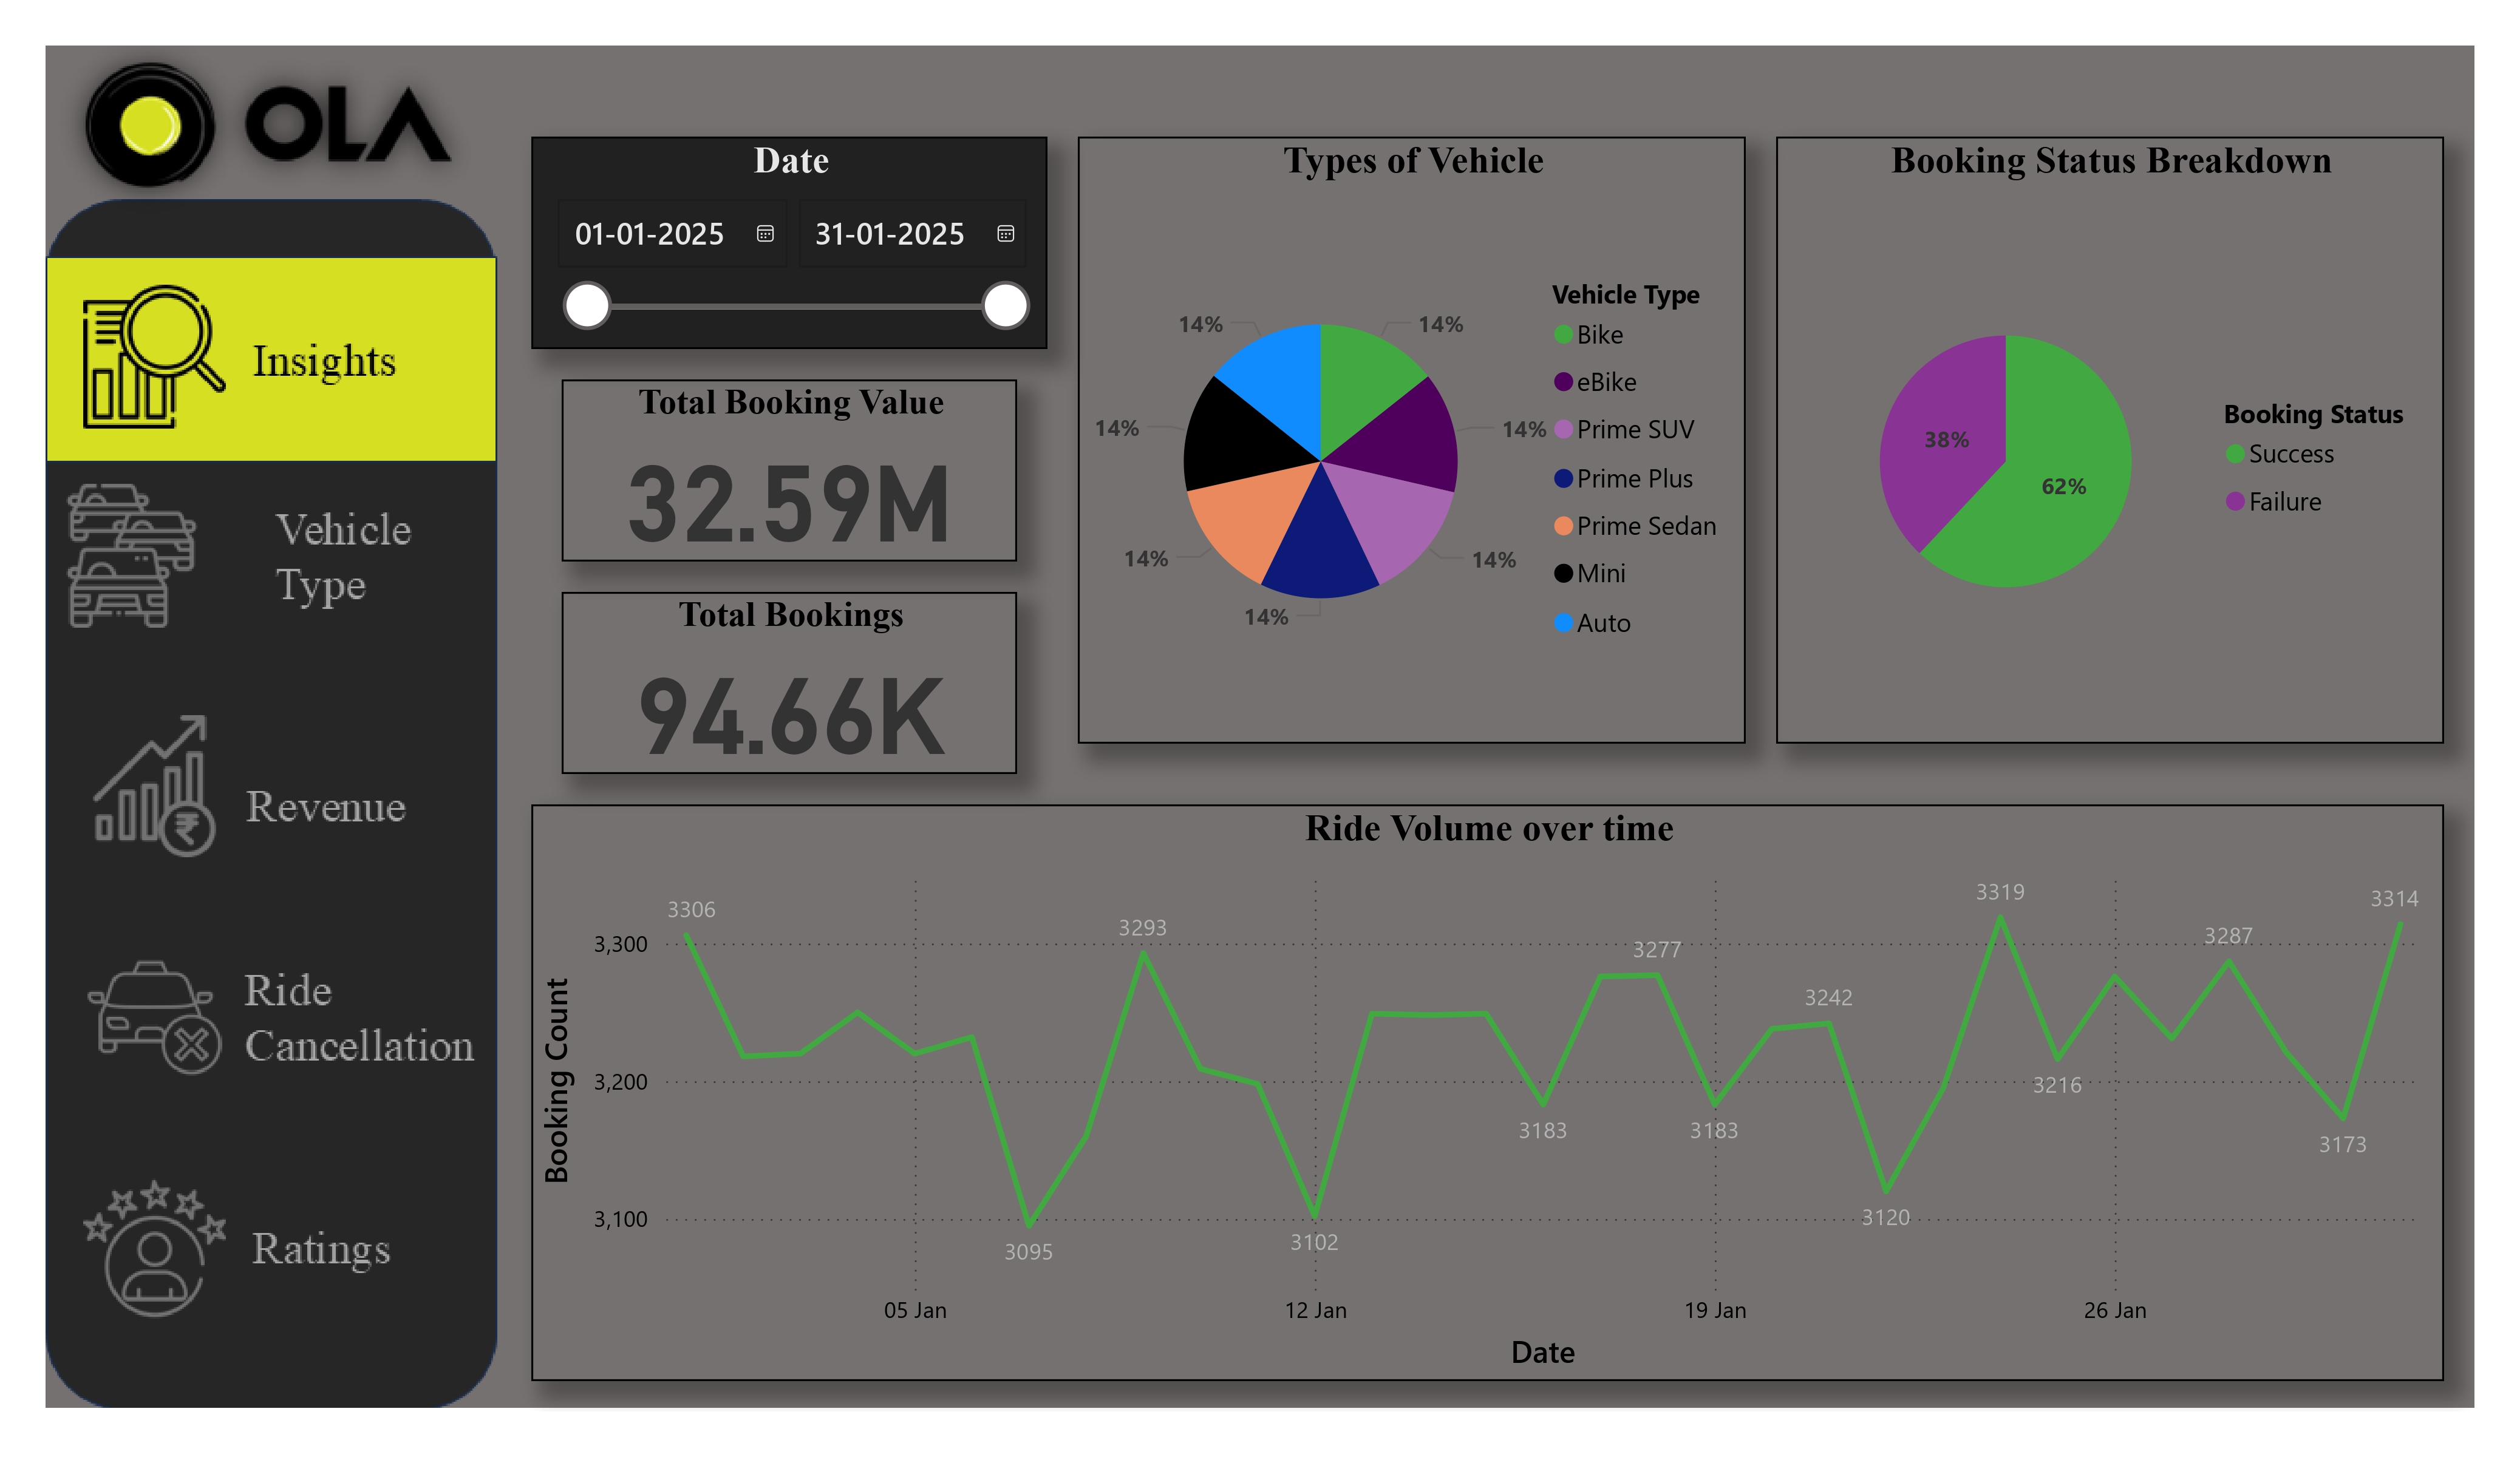

The page's visual inventory and layout, read from the dashboard file:
{"tool":"powerbi","page":{"name":"Insights","canvas":[1280,720],"ordinal":0},"visuals":[{"type":"actionButton","box":[0,224,240,96],"z":0},{"type":"actionButton","box":[0,336,240,112],"z":1000},{"type":"actionButton","box":[0,464,240,96],"z":2000},{"type":"actionButton","box":[0,592,240,96],"z":3000},{"type":"lineChart","title":"Ride Volume over time","fields":{"Category":["Ola_banglore_ride.Date"],"Y":["CountNonNull(Ola_banglore_ride.Booking_ID)"]},"box":[256,400,1008,304],"z":4000},{"type":"pieChart","title":"Booking Status Breakdown","fields":{"Category":["Ola_banglore_ride.Booking_Status"],"Y":["CountNonNull(Ola_banglore_ride.Booking_Status)"]},"box":[912,48,352,320],"z":5000},{"type":"slicer","title":"Date","fields":{"Values":["Ola_banglore_ride.Date"]},"box":[256,48,272,112],"z":6000},{"type":"pieChart","title":"Types of Vehicle","fields":{"Category":["Ola_banglore_ride.Vehicle_Type"],"Y":["CountNonNull(Ola_banglore_ride.Vehicle_Type)"]},"box":[544,48,352,320],"z":7000},{"type":"card","title":"Total Booking Value","fields":{"Values":["Sum(Ola_banglore_ride.Booking_Value)"]},"box":[272,176,240,96],"z":8000},{"type":"card","title":"Total Bookings","fields":{"Values":["Count(Ola_banglore_ride.Booking_ID)"]},"box":[272,288,240,96],"z":9000}]}

Visuals, with their boxes on the page's 1280x720 design canvas (x1, y1, x2, y2). These are canvas units, not pixel positions in the 2520x1457 screenshot, which may show the page scaled, cropped or inside an application window:
actionButton: [x1=0, y1=224, x2=240, y2=320]
actionButton: [x1=0, y1=336, x2=240, y2=448]
actionButton: [x1=0, y1=464, x2=240, y2=560]
actionButton: [x1=0, y1=592, x2=240, y2=688]
"Ride Volume over time" lineChart: [x1=256, y1=400, x2=1264, y2=704]
"Booking Status Breakdown" pieChart: [x1=912, y1=48, x2=1264, y2=368]
"Date" slicer: [x1=256, y1=48, x2=528, y2=160]
"Types of Vehicle" pieChart: [x1=544, y1=48, x2=896, y2=368]
"Total Booking Value" card: [x1=272, y1=176, x2=512, y2=272]
"Total Bookings" card: [x1=272, y1=288, x2=512, y2=384]
